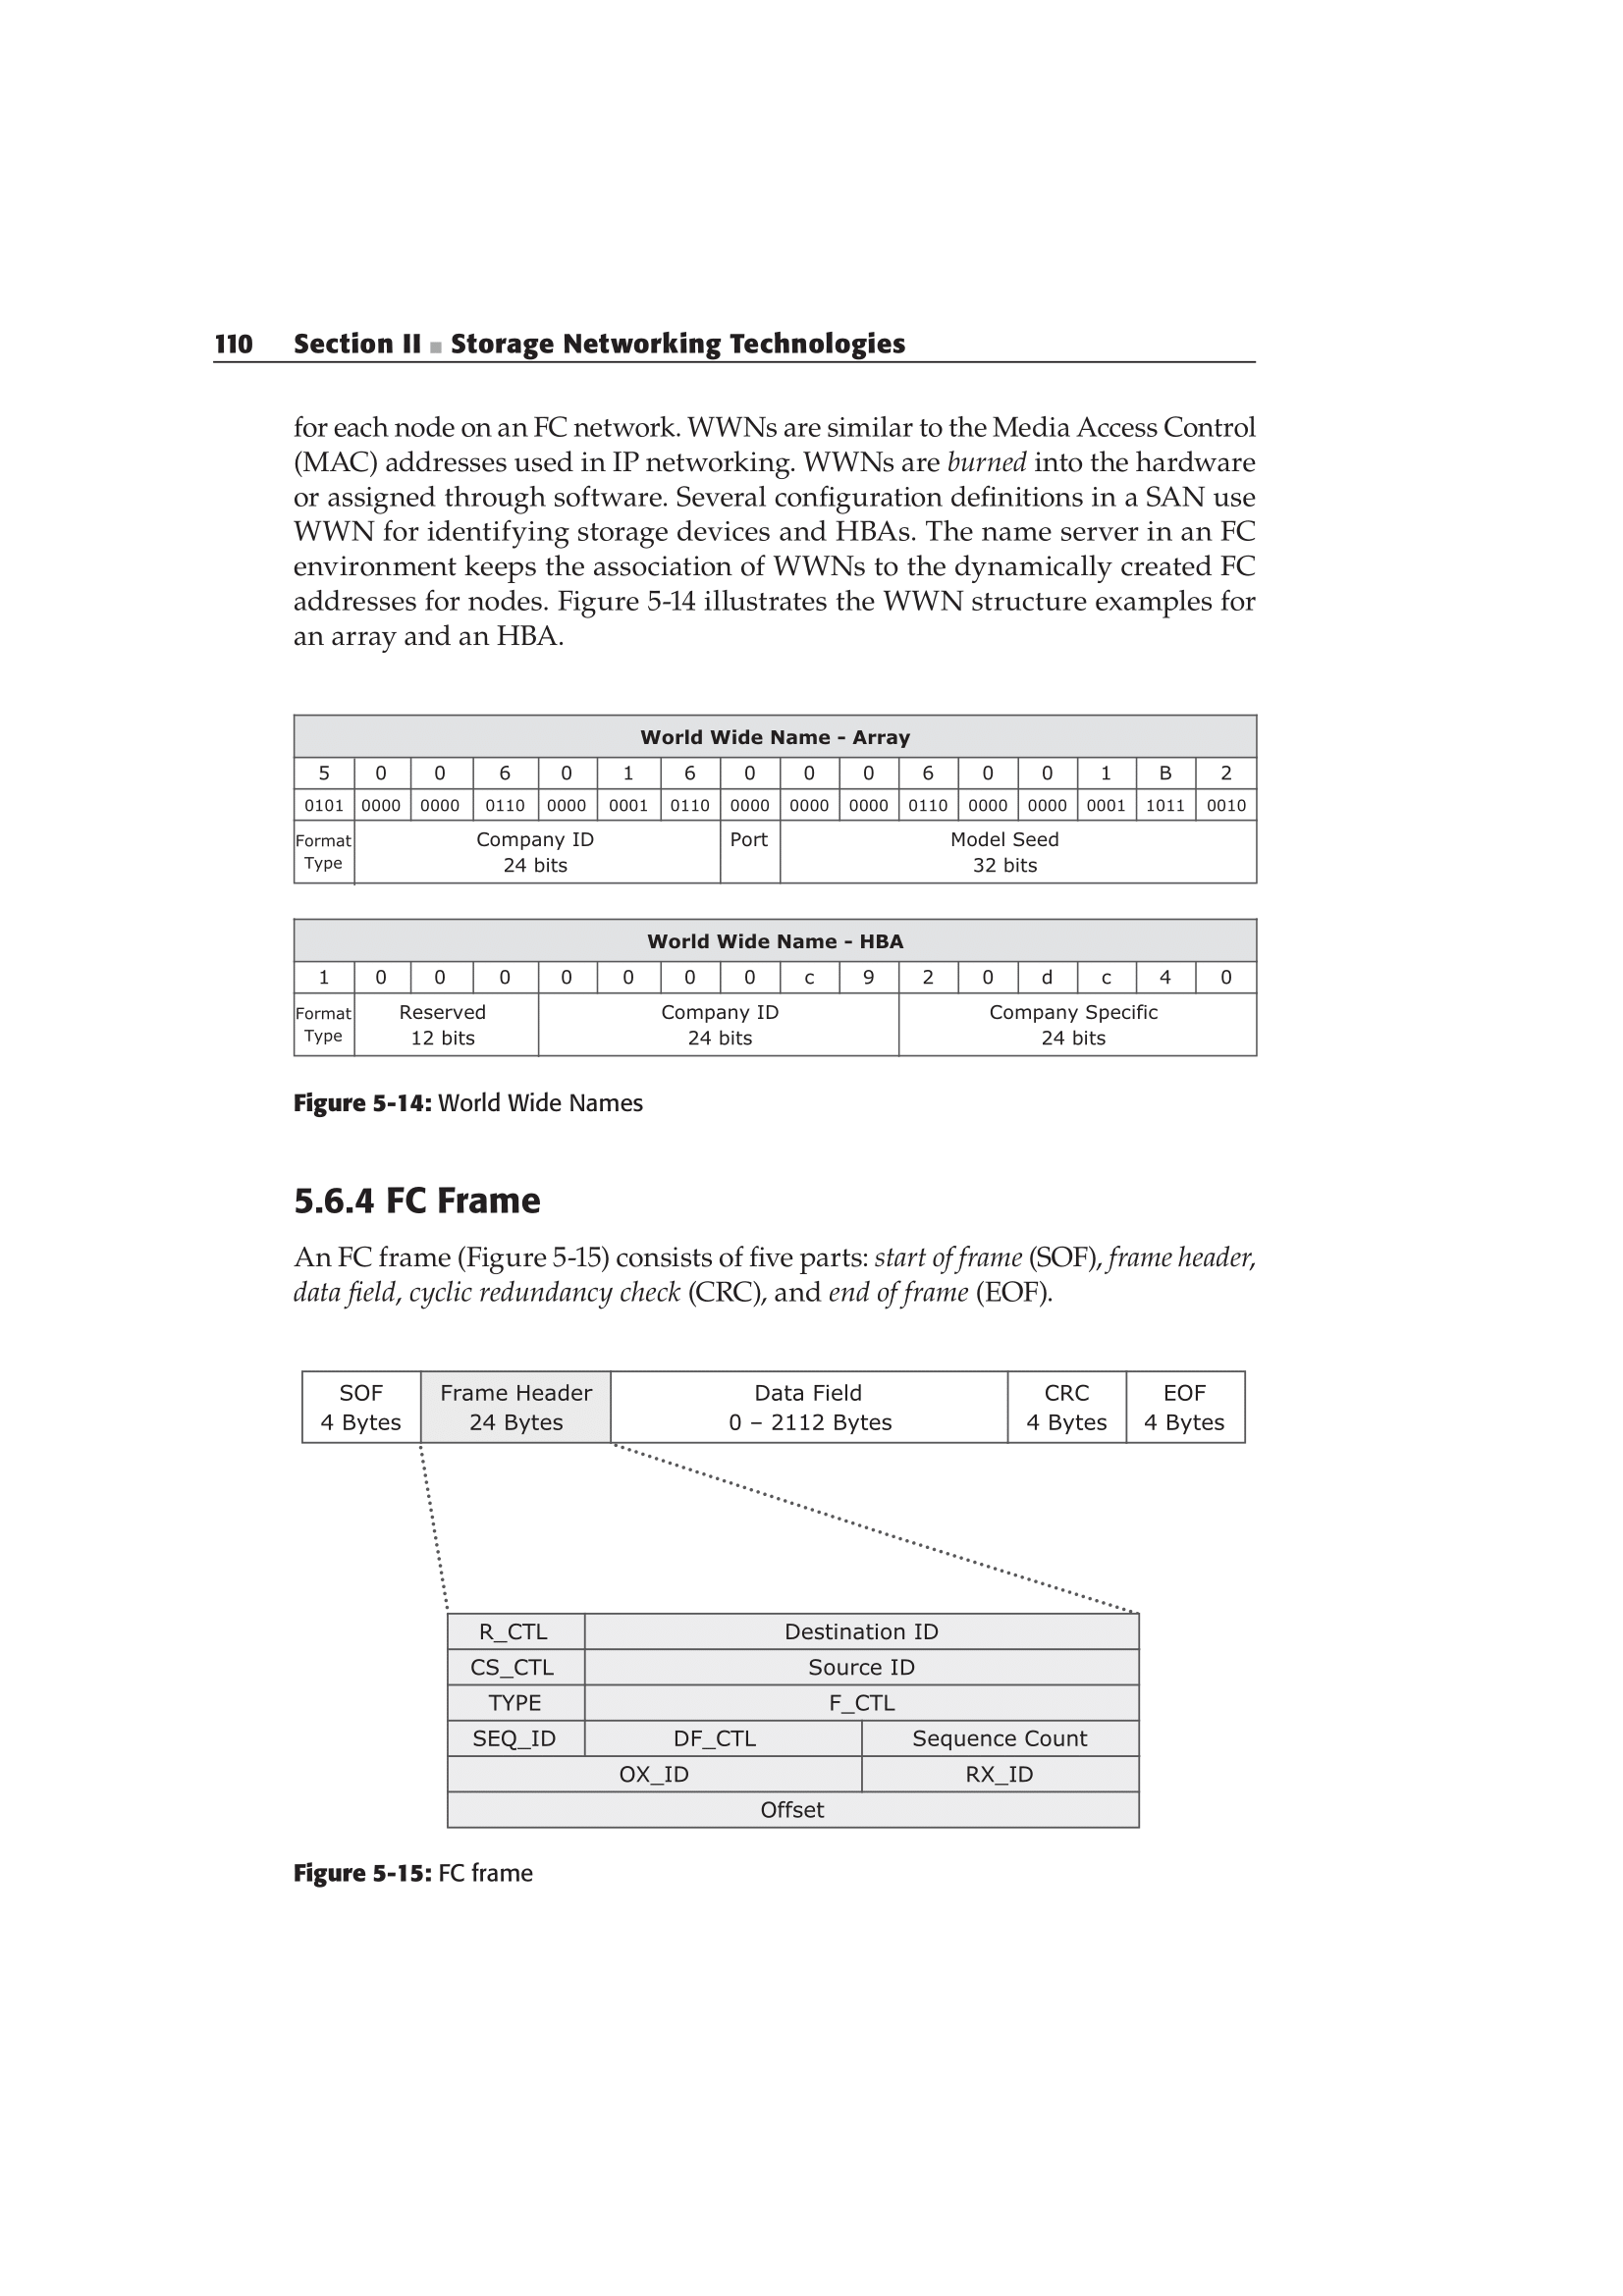Image: (193, 1341, 1433, 1840), (155, 674, 1409, 1060)
Paragraph: (142, 393, 1345, 658), (235, 1232, 1354, 1329), (130, 269, 1122, 372), (221, 1076, 738, 1136), (227, 1848, 587, 1924), (227, 1160, 611, 1227)
